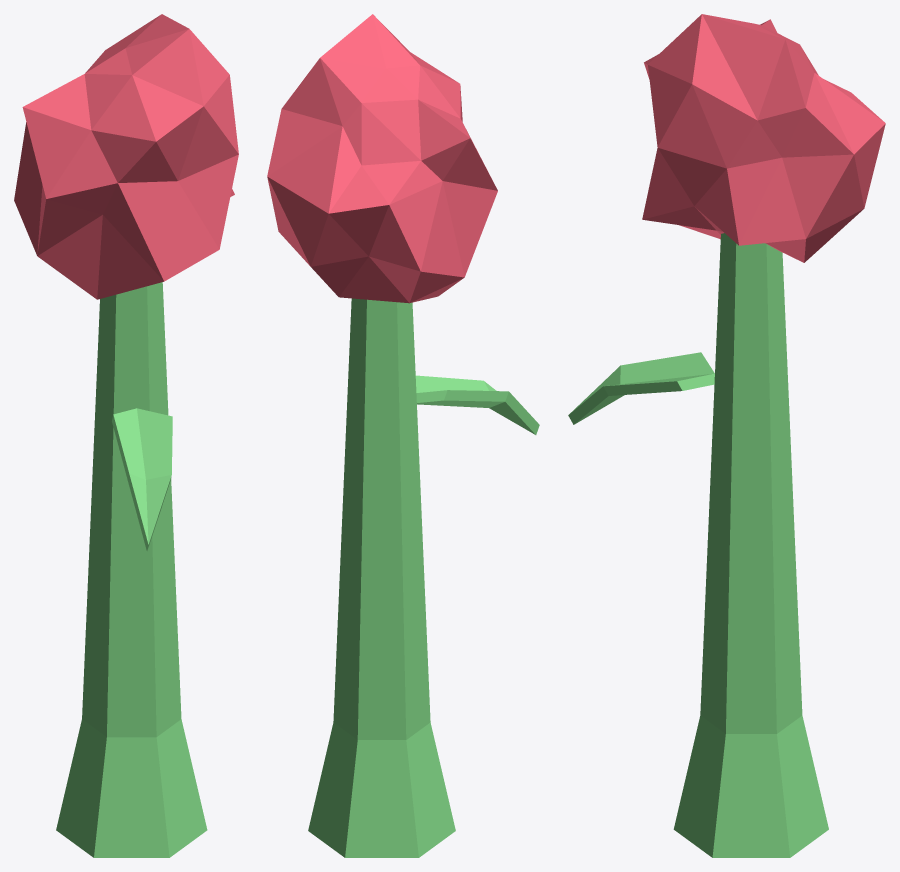
File: fleur1_lowpoly.fbx
3 views of the same model, side by side, from view 1: azimuth 30°, elevation 25°; view 2: azimuth 150°, elevation 25°; view 3: azimuth 270°, elevation 25° (orthographic). The views are drawn at different scales.
Parts seen in each view (by area): view 1: Cylinder.005, Icosphere.003; view 2: Cylinder.005, Icosphere.003; view 3: Cylinder.005, Icosphere.003.
Part boxes in pixels (box(x1,y1,x2,y2)): Cylinder.005: box(56, 282, 207, 857); Icosphere.003: box(14, 14, 238, 299); Cylinder.005: box(308, 298, 539, 857); Icosphere.003: box(267, 14, 497, 303); Cylinder.005: box(568, 233, 828, 857); Icosphere.003: box(642, 14, 885, 262).
Bounding box in the file's own units: 0.23 × 0.3087 × 0.8925.
